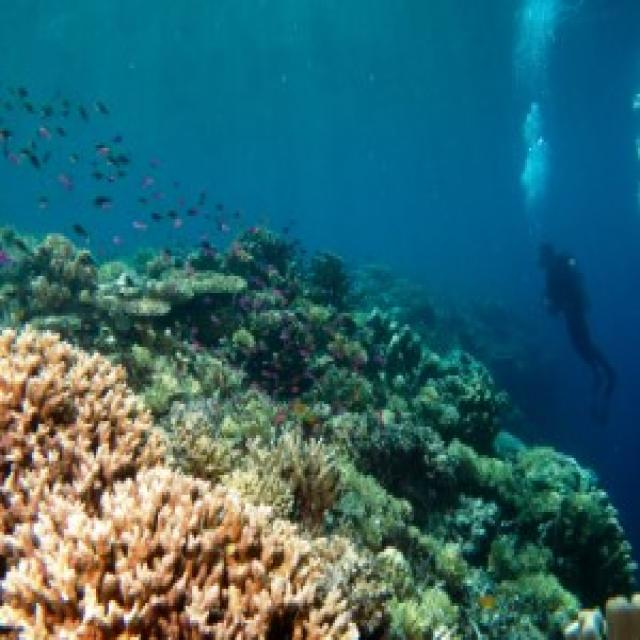Healthy: (1, 467, 349, 638), (1, 331, 163, 533), (366, 311, 511, 450), (509, 448, 635, 604), (355, 419, 494, 502), (466, 544, 581, 638), (1, 231, 97, 317), (376, 547, 458, 638), (280, 433, 338, 522), (97, 274, 182, 334), (176, 413, 248, 482), (234, 450, 295, 519), (150, 266, 246, 305)
